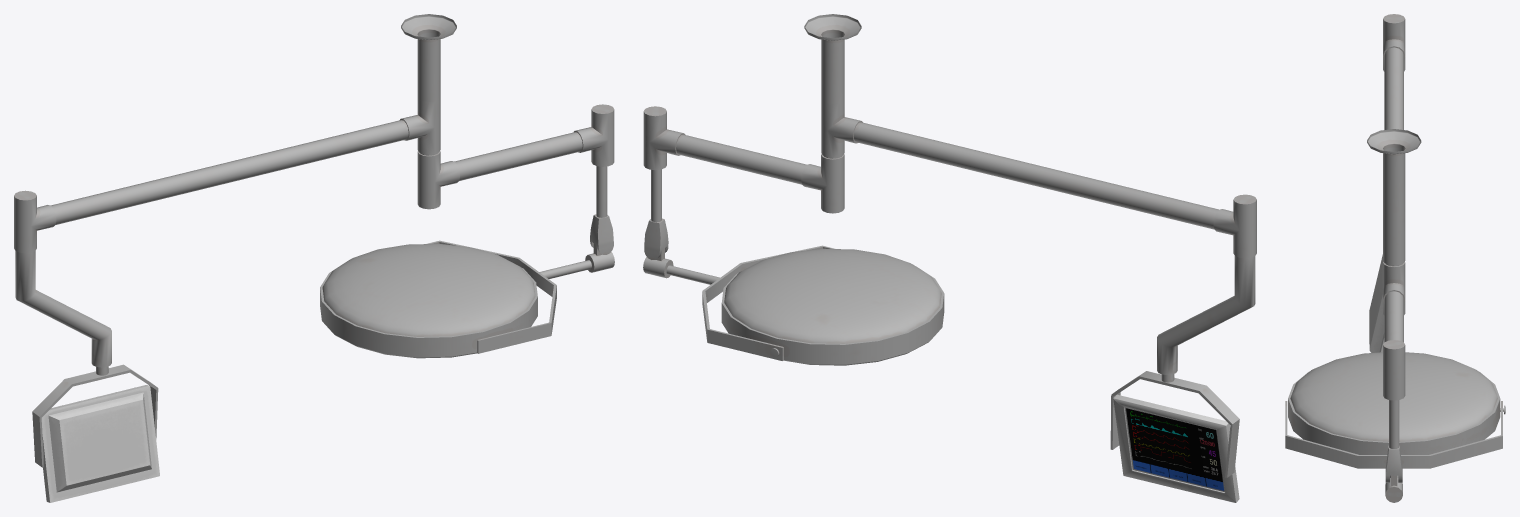
Rendered from LightB.fbx.
The picture shows the model from 3 angles, left to right: view 1: azimuth 30°, elevation 25°; view 2: azimuth 150°, elevation 25°; view 3: azimuth 270°, elevation 25°; orthographic projection. The views are drawn at different scales.
Visible parts, largest first — view 1: LightB; view 2: LightB; view 3: LightB.
Part boxes in pixels (bbox=[...]): LightB: bbox=[14, 14, 614, 502]; LightB: bbox=[643, 14, 1256, 502]; LightB: bbox=[1285, 14, 1505, 502].
Size of the model in its own units: 236 by 142 by 77.62.
